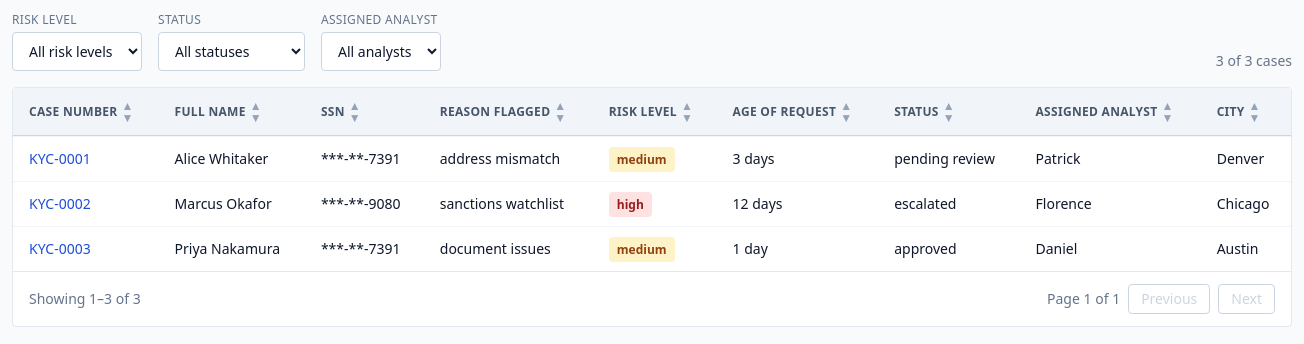
CaseQueue › filters by risk level
The image size is (1304, 344).
Select "high" in the dropdown labelled "Risk level". click: (77, 52)
box: [12, 32, 142, 71]
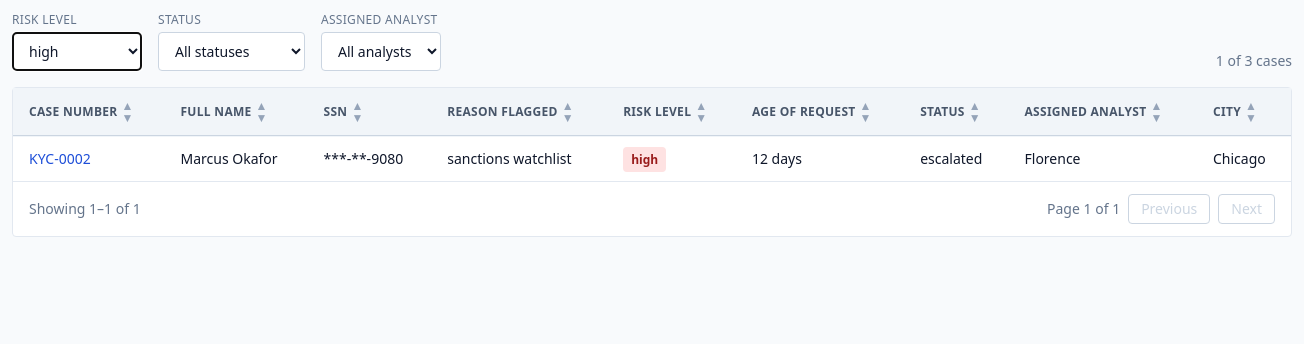
Expected: the link "KYC-0002" is shown, [29, 149, 91, 168]
Result: the link "KYC-0001" is gone
Result: the text with test id "result-count" reads "1 of 3 cases" at [1216, 51, 1292, 71]
